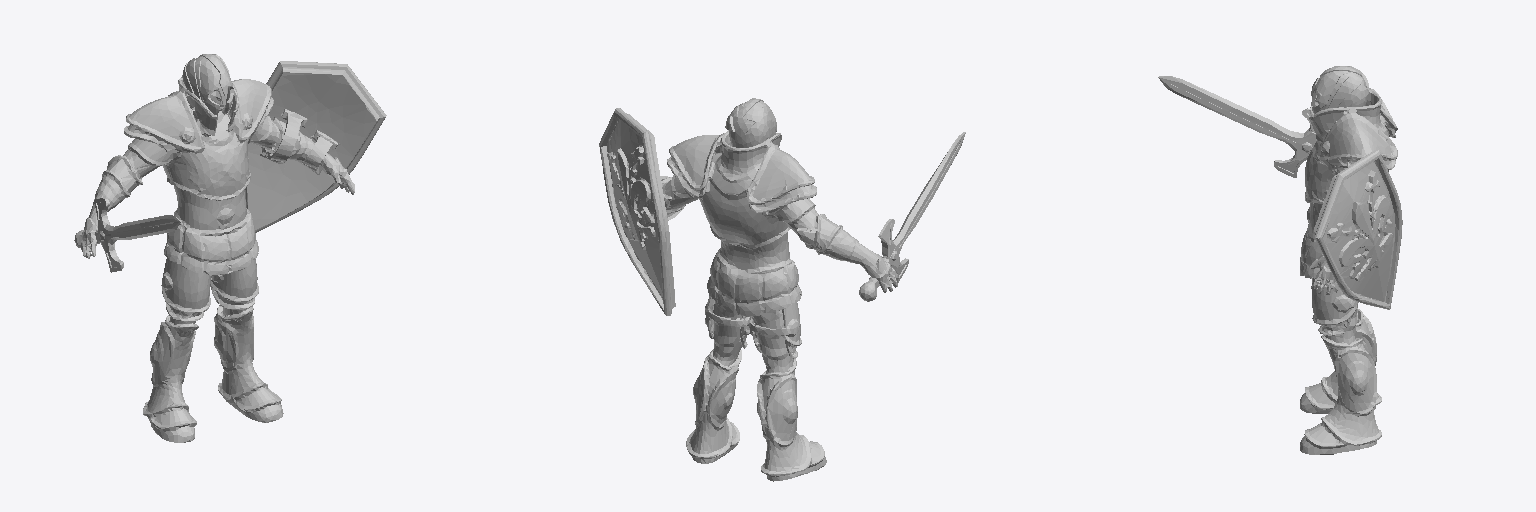
Rendered from armour.obj.
3 renders of one model, left to right at view 1: azimuth 30°, elevation 25°; view 2: azimuth 150°, elevation 25°; view 3: azimuth 270°, elevation 25°, orthographic.
Parts seen in each view (by area): view 1: Group61487, Group61487.001; view 2: Group61487, Group61487.001; view 3: Group61487, Group61487.001.
Part boxes in pixels (left/top/right/bottom): Group61487: left=81, top=54, right=386, bottom=442; Group61487.001: left=74, top=198, right=180, bottom=272; Group61487: left=599, top=98, right=898, bottom=481; Group61487.001: left=859, top=132, right=965, bottom=301; Group61487: left=1300, top=66, right=1402, bottom=454; Group61487.001: left=1158, top=76, right=1316, bottom=177.
Size of the model in its own units: 241 by 280 by 171.